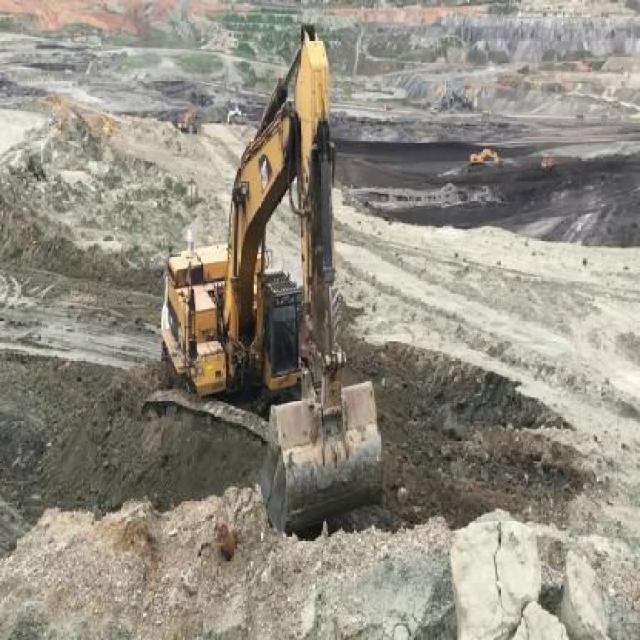excavator: (140, 19, 389, 533), (468, 148, 503, 167)
